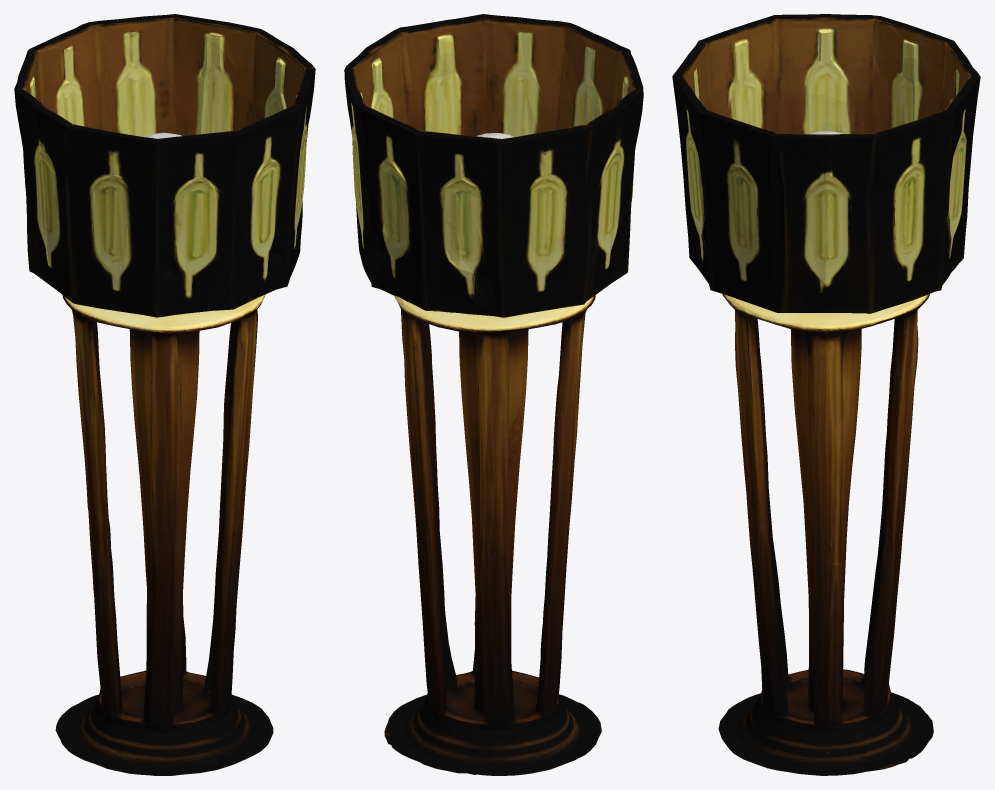
Rendered from wooden-lamp-art-deco.jpeg.glb.
3 renders of one model, left to right at view 1: azimuth 30°, elevation 25°; view 2: azimuth 150°, elevation 25°; view 3: azimuth 270°, elevation 25°, orthographic.
Parts seen in each view (by area): view 1: world; view 2: world; view 3: world.
Part boxes in pixels (bbox=[...]): world: bbox=[14, 14, 315, 775]; world: bbox=[344, 14, 643, 775]; world: bbox=[672, 14, 980, 775].
Size of the model in its own units: 0.4099 by 1 by 0.4272.
1 material, 1 textured.
